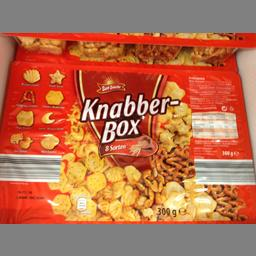chips: (1, 62, 255, 225)
